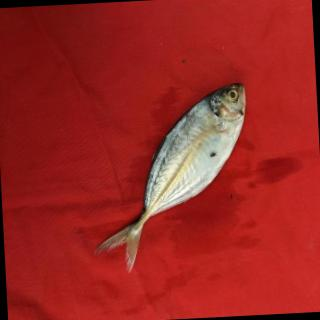Ikan: (97, 80, 259, 275)
